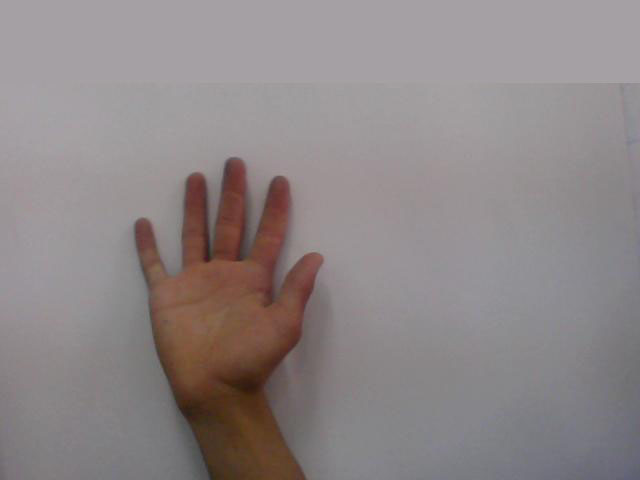hand: (117, 144, 332, 385)
